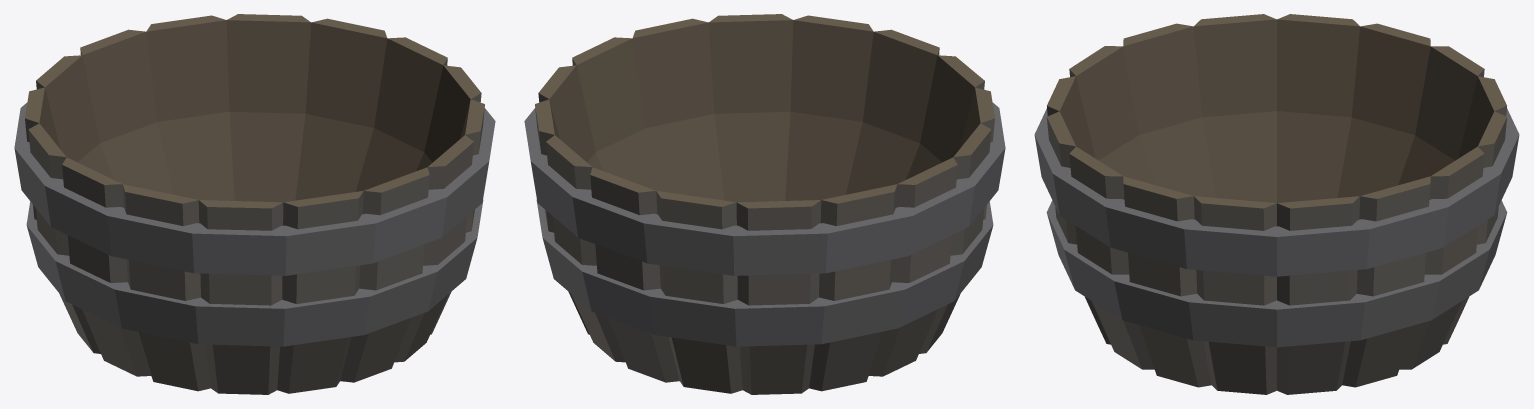
The model's file is SM_Prop_Barrel_Half_01.glb.
The picture shows the model from 3 angles, left to right: view 1: azimuth 30°, elevation 25°; view 2: azimuth 150°, elevation 25°; view 3: azimuth 270°, elevation 25°; orthographic projection.
Visible parts, largest first — view 1: SM_Prop_Barrel_Half_01; view 2: SM_Prop_Barrel_Half_01; view 3: SM_Prop_Barrel_Half_01.
Boxes of the visible parts, bbox=[...] form: SM_Prop_Barrel_Half_01: bbox=[14, 14, 495, 394]; SM_Prop_Barrel_Half_01: bbox=[524, 14, 1005, 394]; SM_Prop_Barrel_Half_01: bbox=[1034, 14, 1519, 394].
Size of the model in its own units: 0.00858 by 0.00405 by 0.00858.
1 material, 1 textured.
